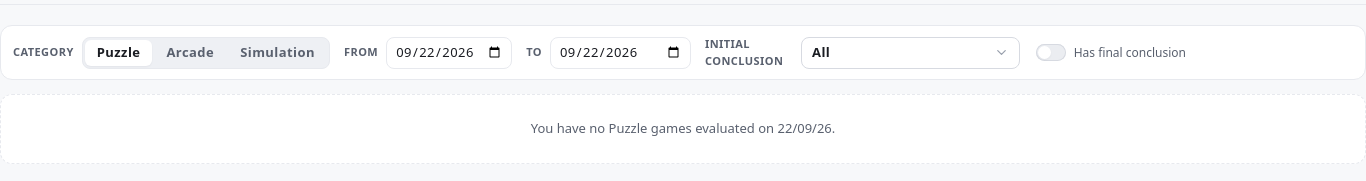
Test: ReviewTable › never stores a reversed date pair, so the empty sentence cannot read backwards
Expected: the text "You have no Puzzle games evaluated on 22/09/26." is shown, [0, 94, 1365, 164]
Type "2026-09-18" into the date field named "To date" at (620, 52), box [550, 36, 691, 68]
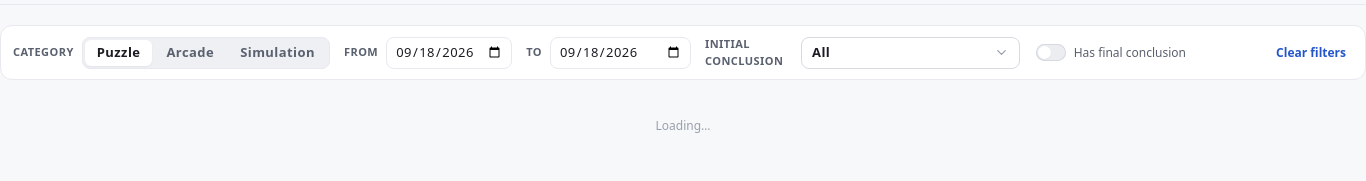
Type "2026-09-22" into the date field named "From date" at (449, 52), box [386, 36, 512, 68]
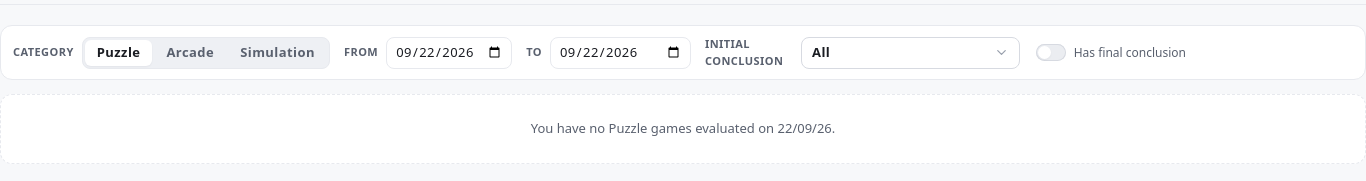
Expected: the date field named "To date" holds "2026-09-22", [550, 36, 691, 68]
Expected: the text "You have no Puzzle games evaluated on 22/09/26." is shown, [0, 94, 1365, 164]
Expected: the text with class "rp-review-empty" shows "on 22/09/26", [531, 119, 835, 137]
